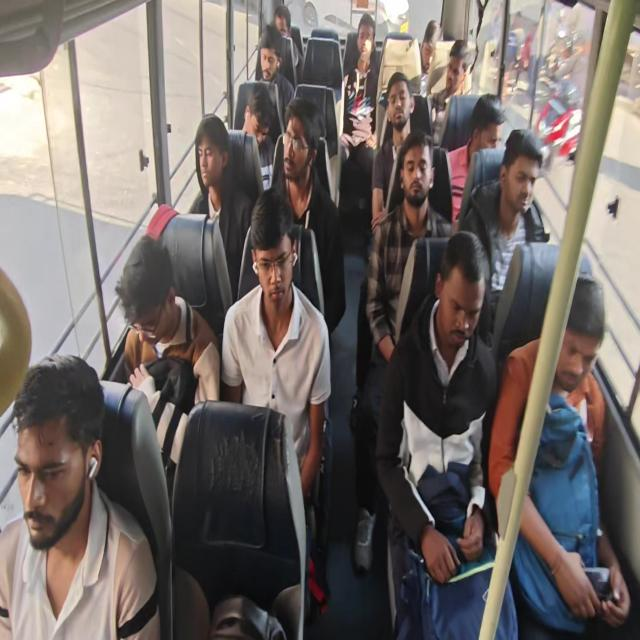person: (19, 359, 96, 545), (122, 242, 176, 348), (249, 194, 295, 300), (438, 236, 478, 351), (559, 288, 596, 403), (506, 137, 536, 223), (469, 99, 505, 166), (283, 100, 311, 180), (190, 121, 224, 185), (239, 88, 273, 148), (406, 141, 434, 203), (445, 42, 469, 94), (421, 18, 443, 72), (353, 21, 377, 66), (388, 80, 411, 124), (259, 41, 278, 78), (275, 5, 292, 39)
